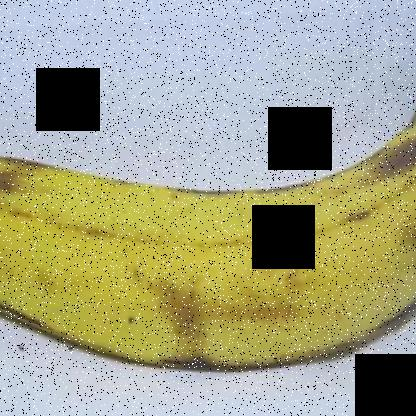ripe: (0, 58, 415, 398)
